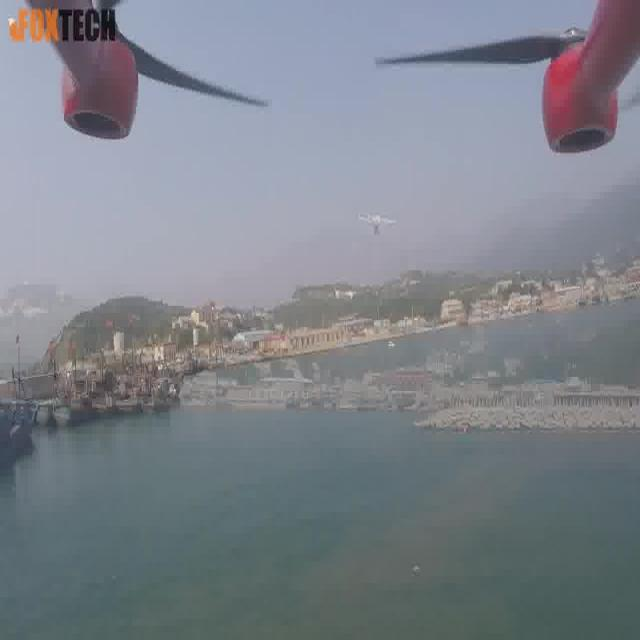drone: (354, 207, 399, 242)
